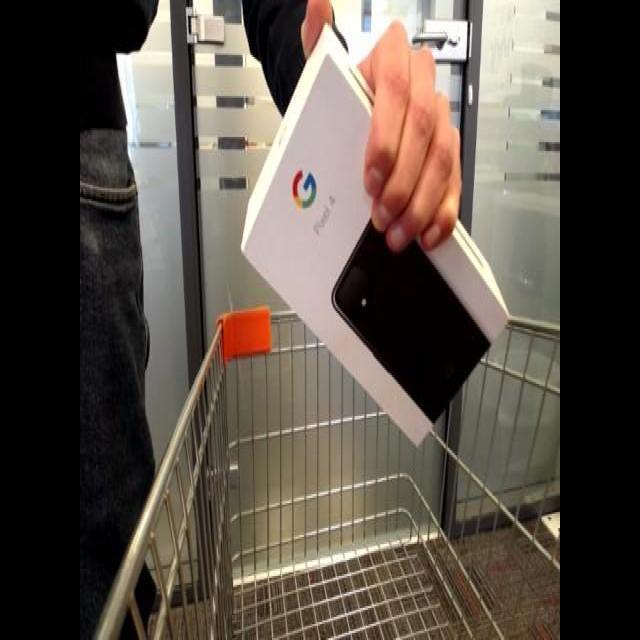Pixel 4: (238, 30, 544, 439)
